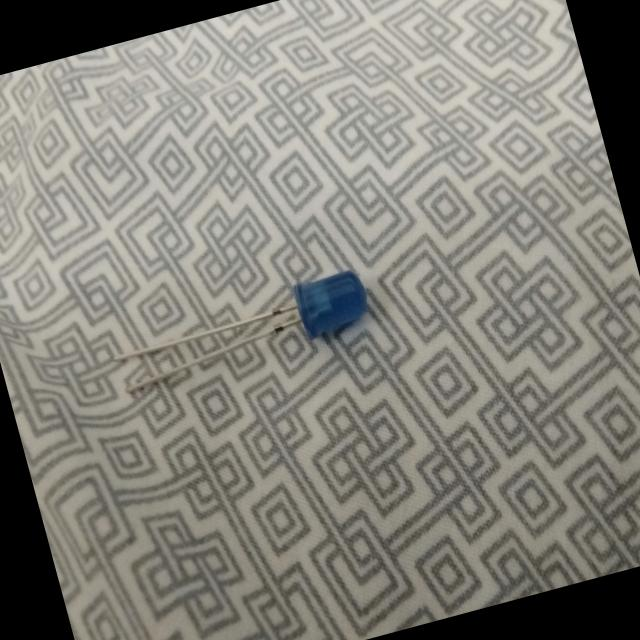blue_led: (290, 264, 376, 344)
